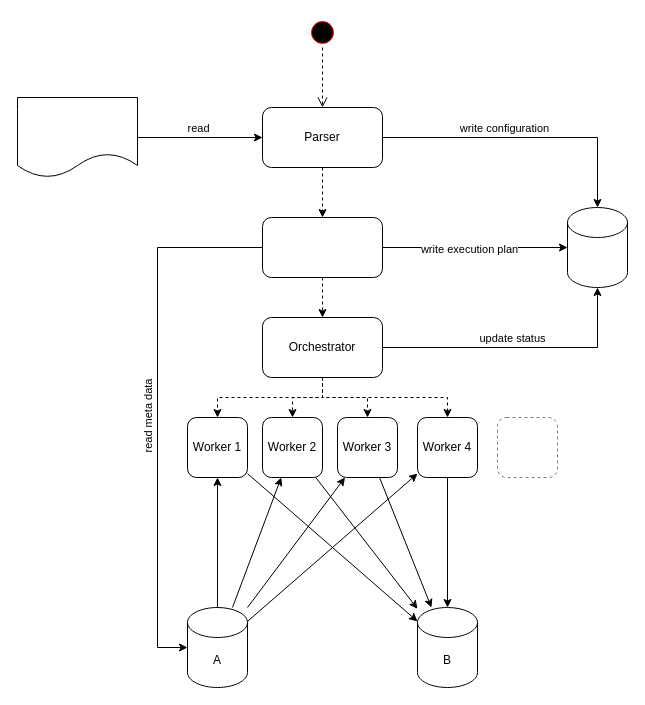
The diagram is 645 pixels wide and 705 high, and some of its shapes have lost their labels. Here are the shapes that lost their labels. From the top down, the centre of each, then its label:
(77,137): Configuration
(322,247): Planner
(597,247): Temp-DB
(527,447): Worker N
